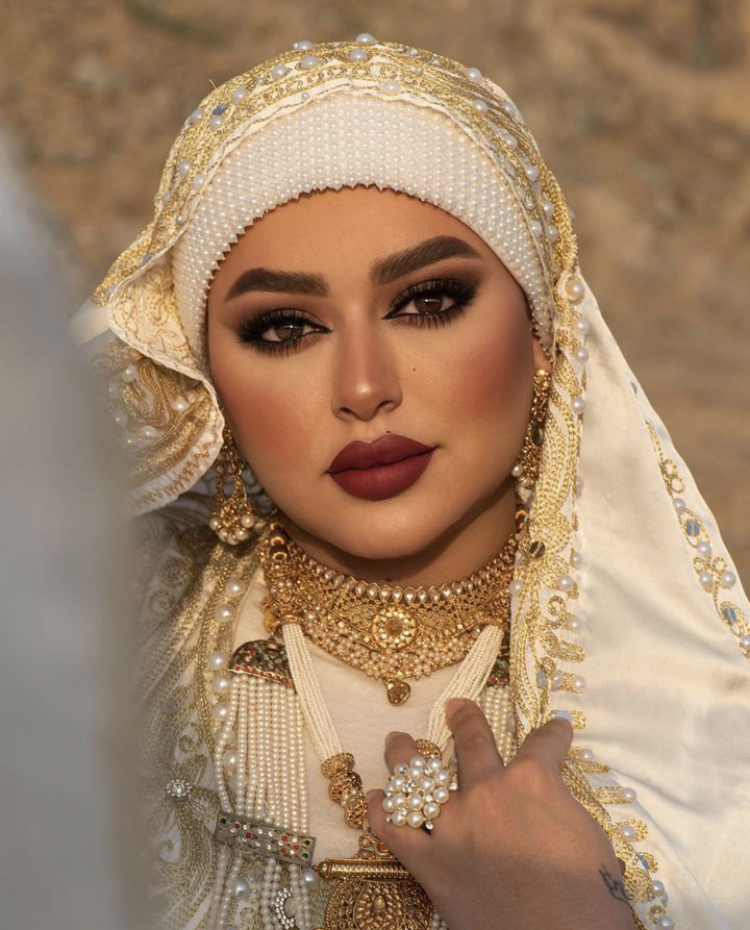Saudi_Founding_Day: (63, 28, 750, 930)
